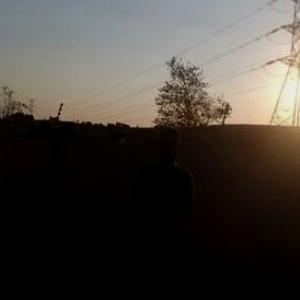follow: (122, 126, 197, 299)
